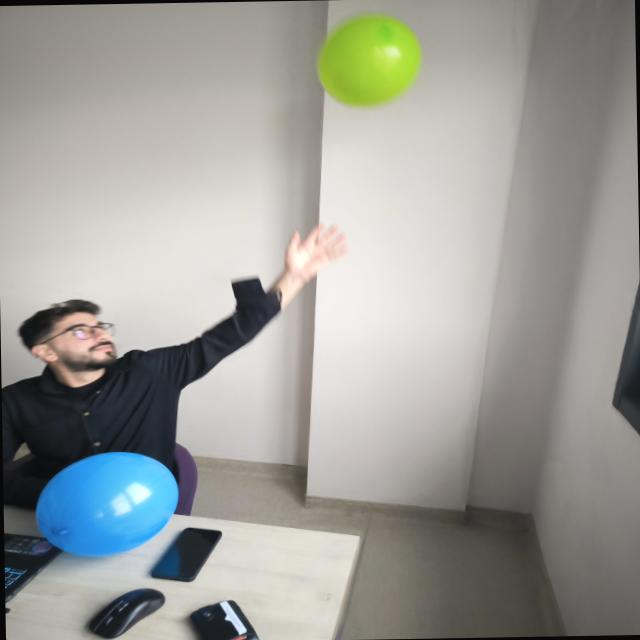balloon: (36, 452, 178, 556), (318, 14, 421, 105)
